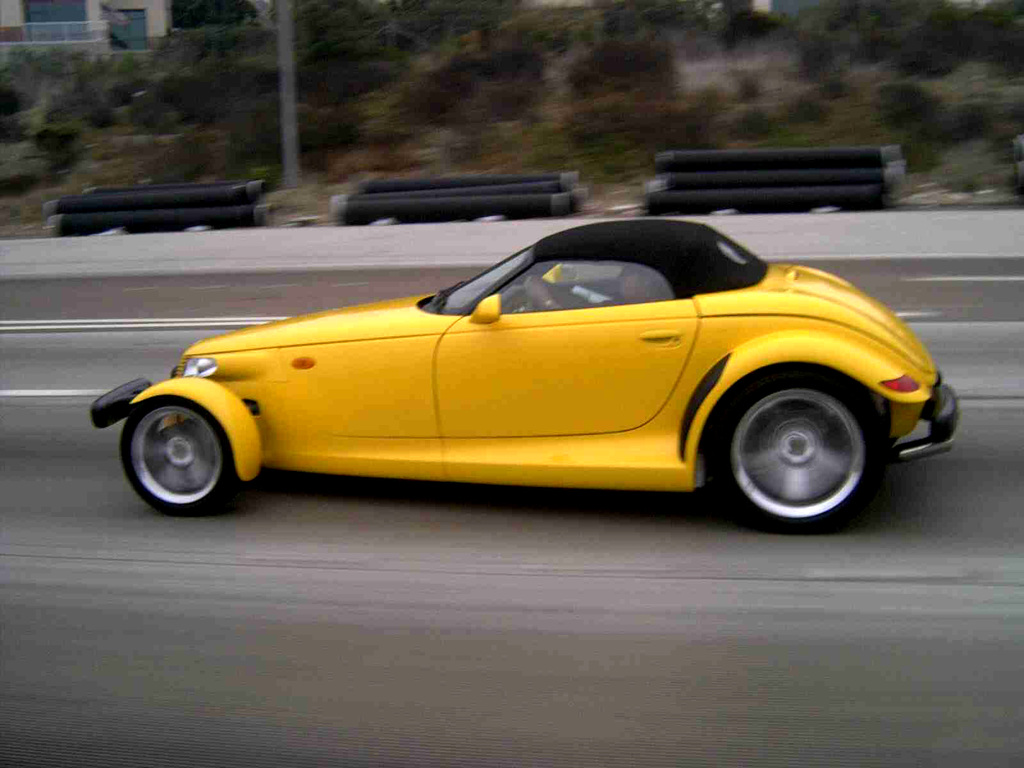Car: (50, 191, 968, 533)
